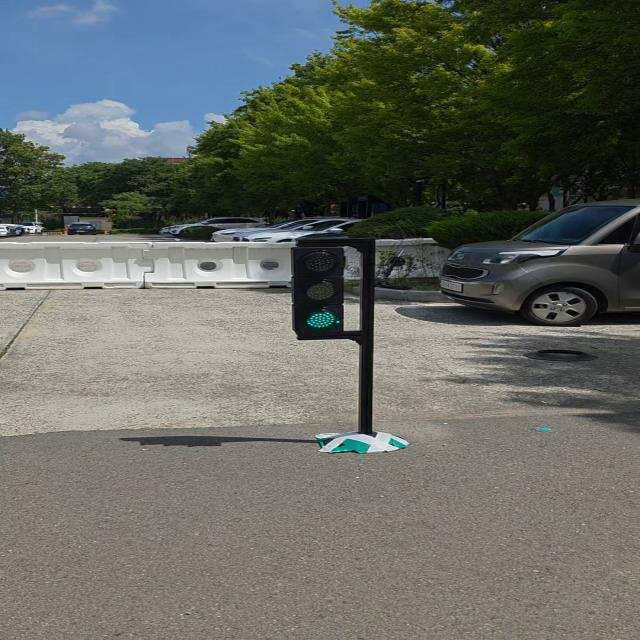green: (290, 244, 347, 342)
